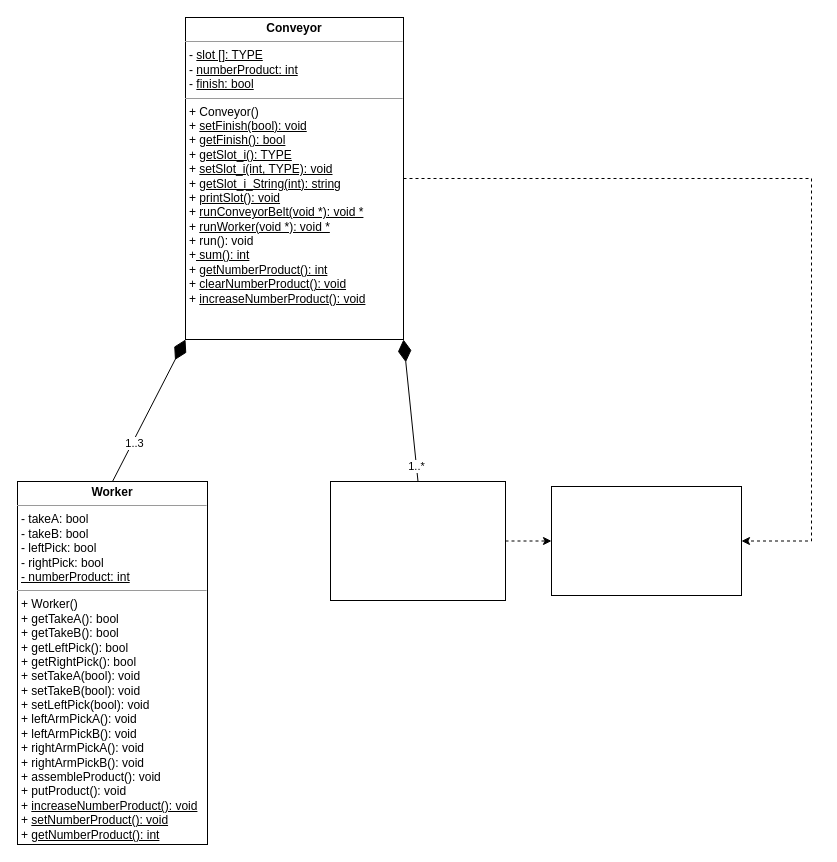
Some shapes in this 837 by 862 pixel diagram are drawn without their labels. Each missing label, with the box of its shape:
<<enumeration>> TYPE NONE COMPONENT_A COMPONENT_B PRODUCT: (550, 486, 742, 596)
Sensor - state: TYPE + Sensor() + getState(): TYPE + setState(): TYPE: (330, 480, 506, 600)
